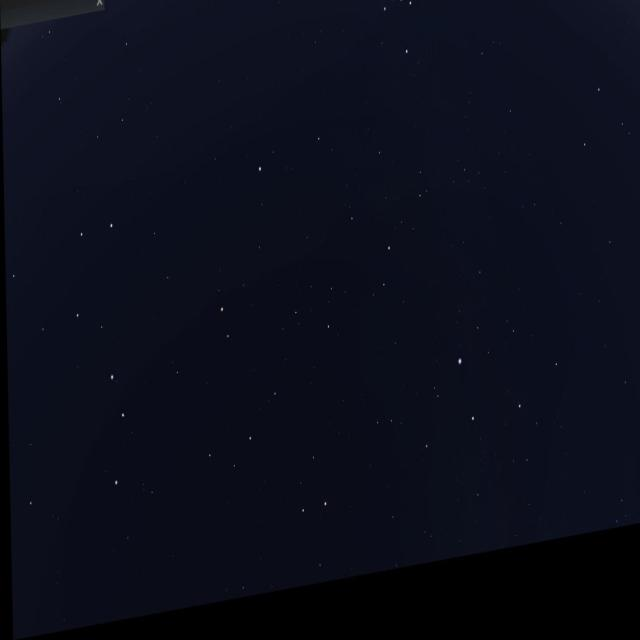cassiopeia: (318, 0, 438, 128)
cygnus: (415, 353, 522, 580)
ursa_major: (46, 196, 144, 508)
